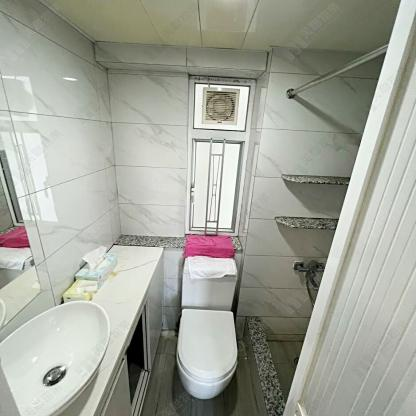Exhaust Fan: (202, 88, 238, 125)
Toilet: (161, 248, 242, 404)
Toilet Sink: (0, 301, 107, 416)
